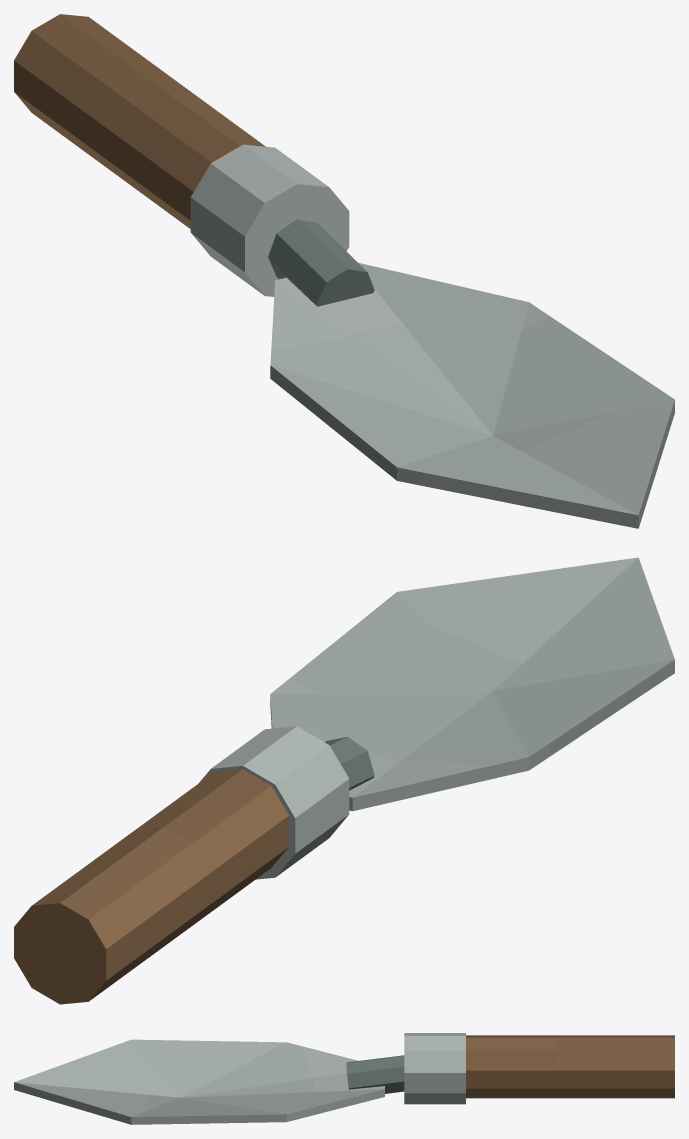
Rendered from trowel.glb.
The picture shows the model from 3 angles, top to bottom: view 1: azimuth 30°, elevation 25°; view 2: azimuth 150°, elevation 25°; view 3: azimuth 270°, elevation 25°; orthographic projection. The views are drawn at different scales.
Parts seen in each view (by area): view 1: trowel/scooped-steel-blade, trowel/wood-handle, trowel/steel-ferrule, trowel/neck; view 2: trowel/scooped-steel-blade, trowel/wood-handle, trowel/steel-ferrule, trowel/neck; view 3: trowel/scooped-steel-blade, trowel/wood-handle, trowel/steel-ferrule, trowel/neck.
Part boxes in pixels (x1,y1,x2,y2): trowel/scooped-steel-blade: (270, 262, 674, 528); trowel/wood-handle: (14, 14, 265, 228); trowel/steel-ferrule: (190, 144, 349, 296); trowel/neck: (268, 219, 374, 306); trowel/scooped-steel-blade: (270, 557, 674, 811); trowel/wood-handle: (14, 769, 288, 1004); trowel/steel-ferrule: (199, 726, 349, 879); trowel/neck: (324, 736, 374, 790); trowel/scooped-steel-blade: (14, 1039, 384, 1124); trowel/wood-handle: (466, 1035, 674, 1098); trowel/steel-ferrule: (404, 1033, 465, 1104); trowel/neck: (346, 1055, 404, 1093).
Size of the model in its own units: 0.086 by 0.036 by 0.31.
Materials: 3 (3 with a texture image).
